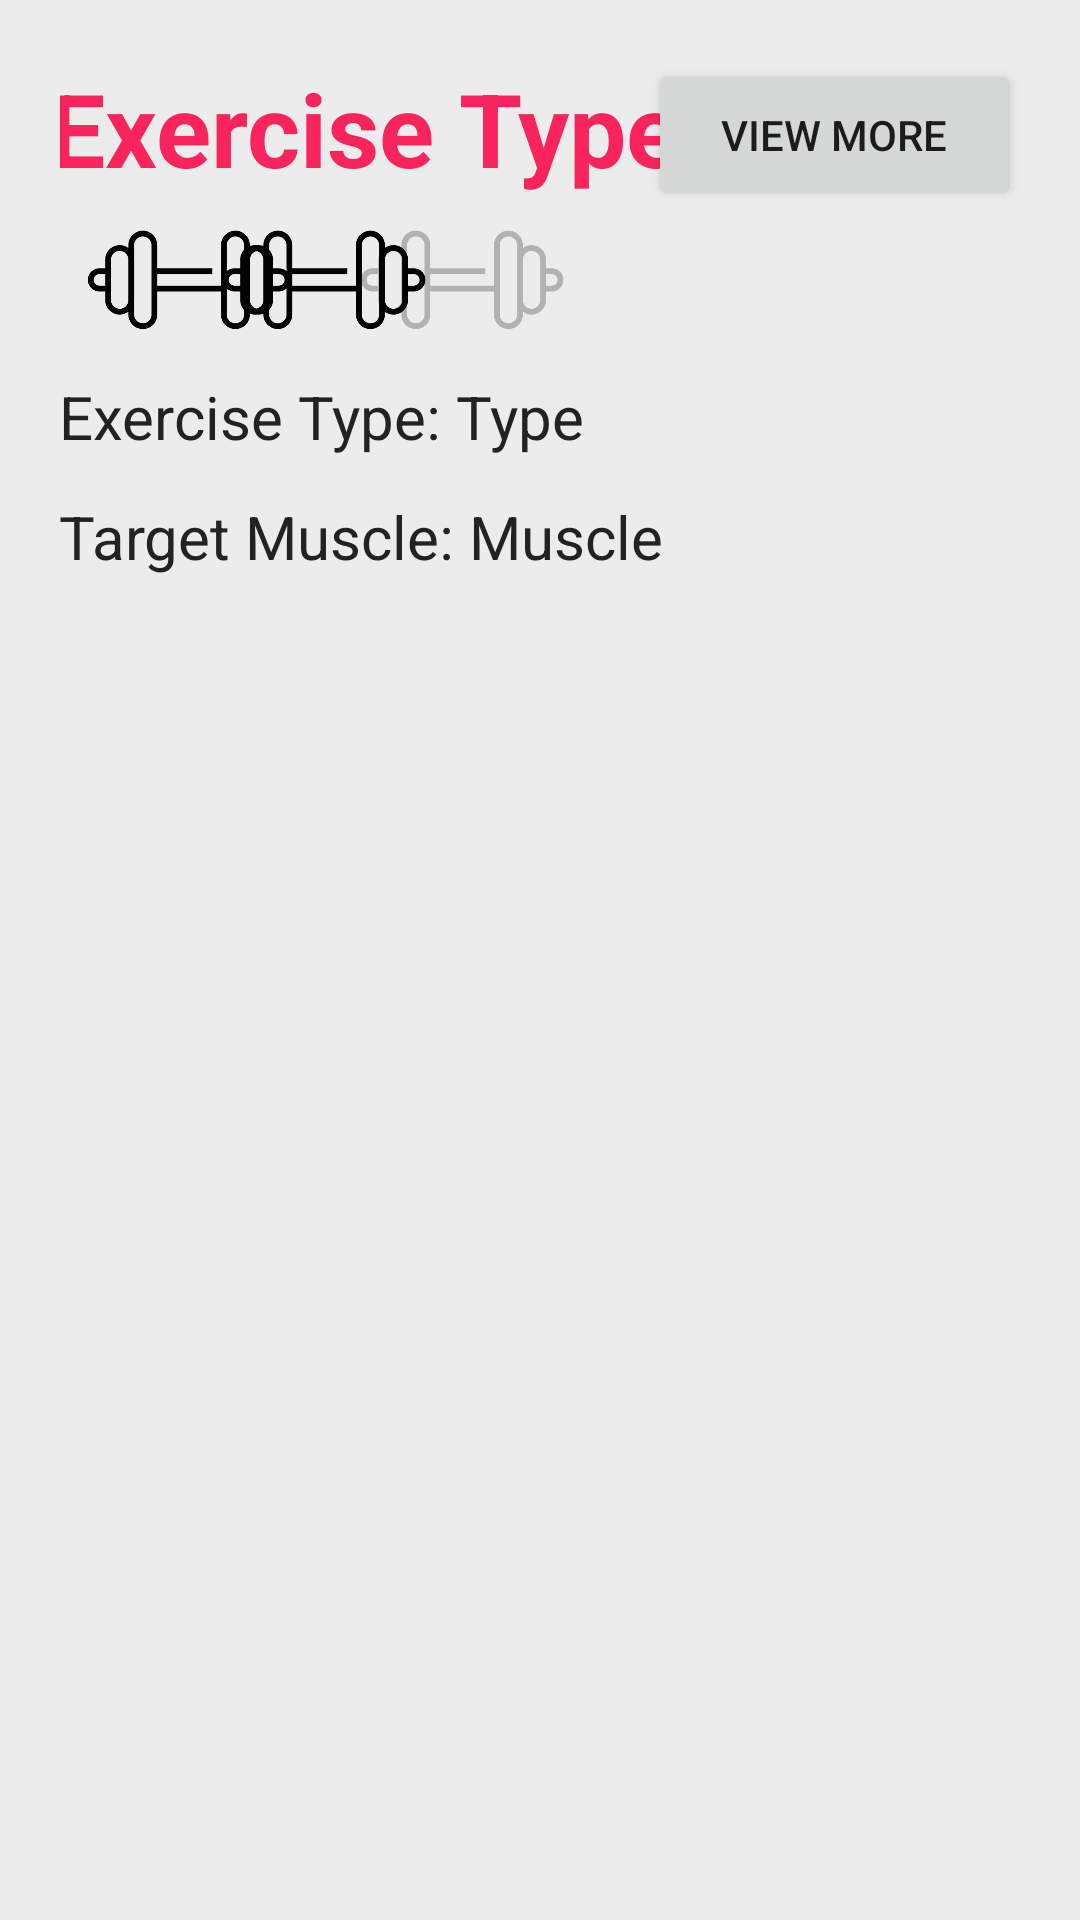

Named icons in this screenshot (1080px×1920px) and their centers, (x,y):
dumbell: (190,279), (323,279), (460,279)
